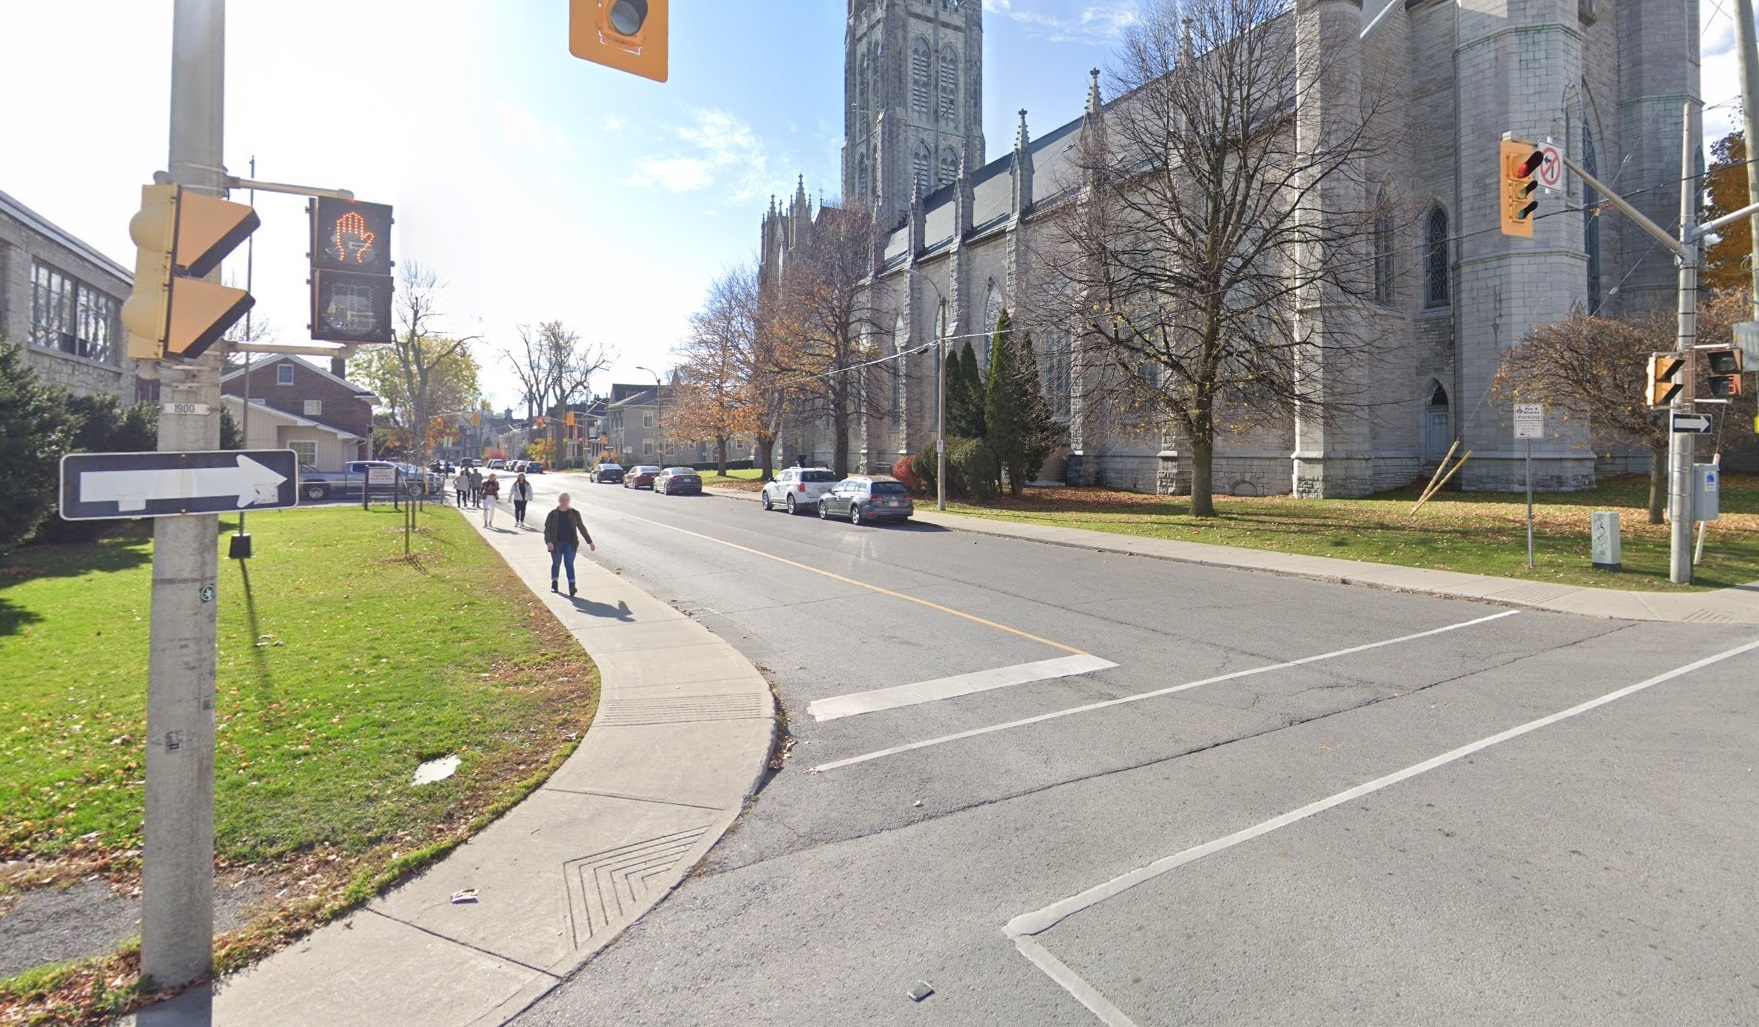sign_oneway_right: (55, 446, 301, 520), (1669, 408, 1710, 435)
